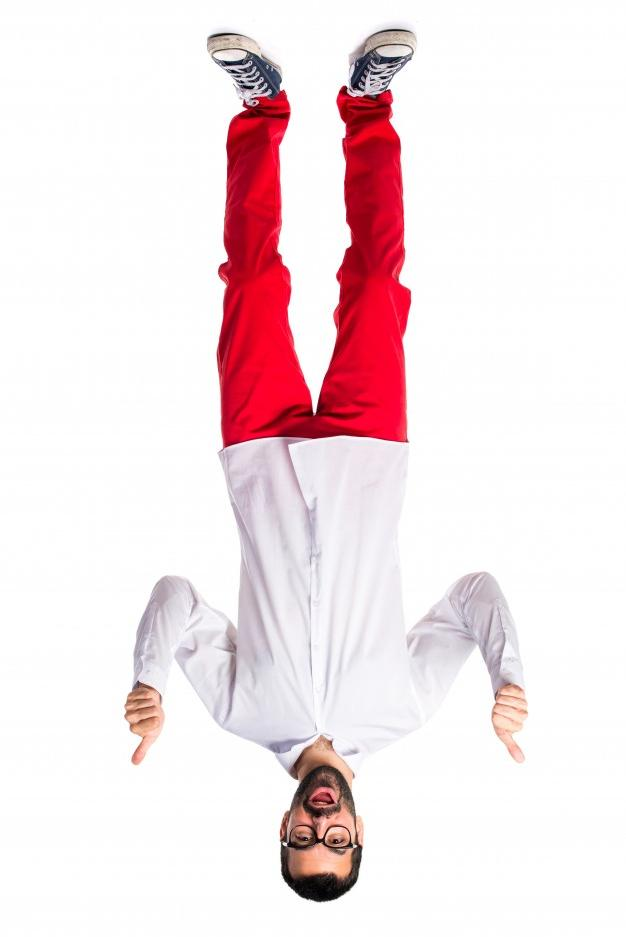thumbsdown: (124, 687, 161, 765), (491, 685, 528, 763)
